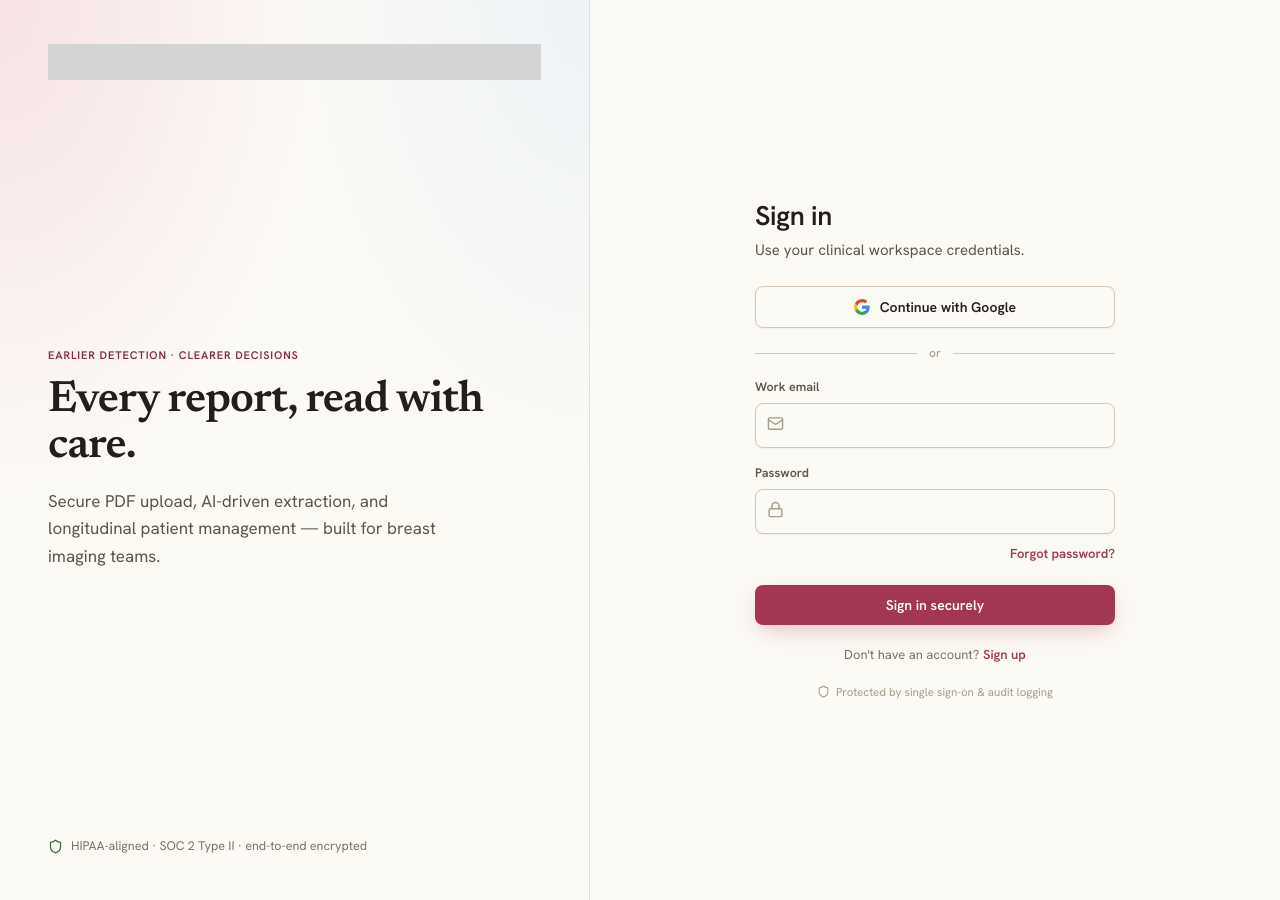
Scenario: Login page › shows error message on failed sign-in
The width and height of the screenshot is (1280, 900).
In the field labelled "Work email": (935, 425) left=755, top=403, right=1115, bottom=448, type "test@clinic.org"
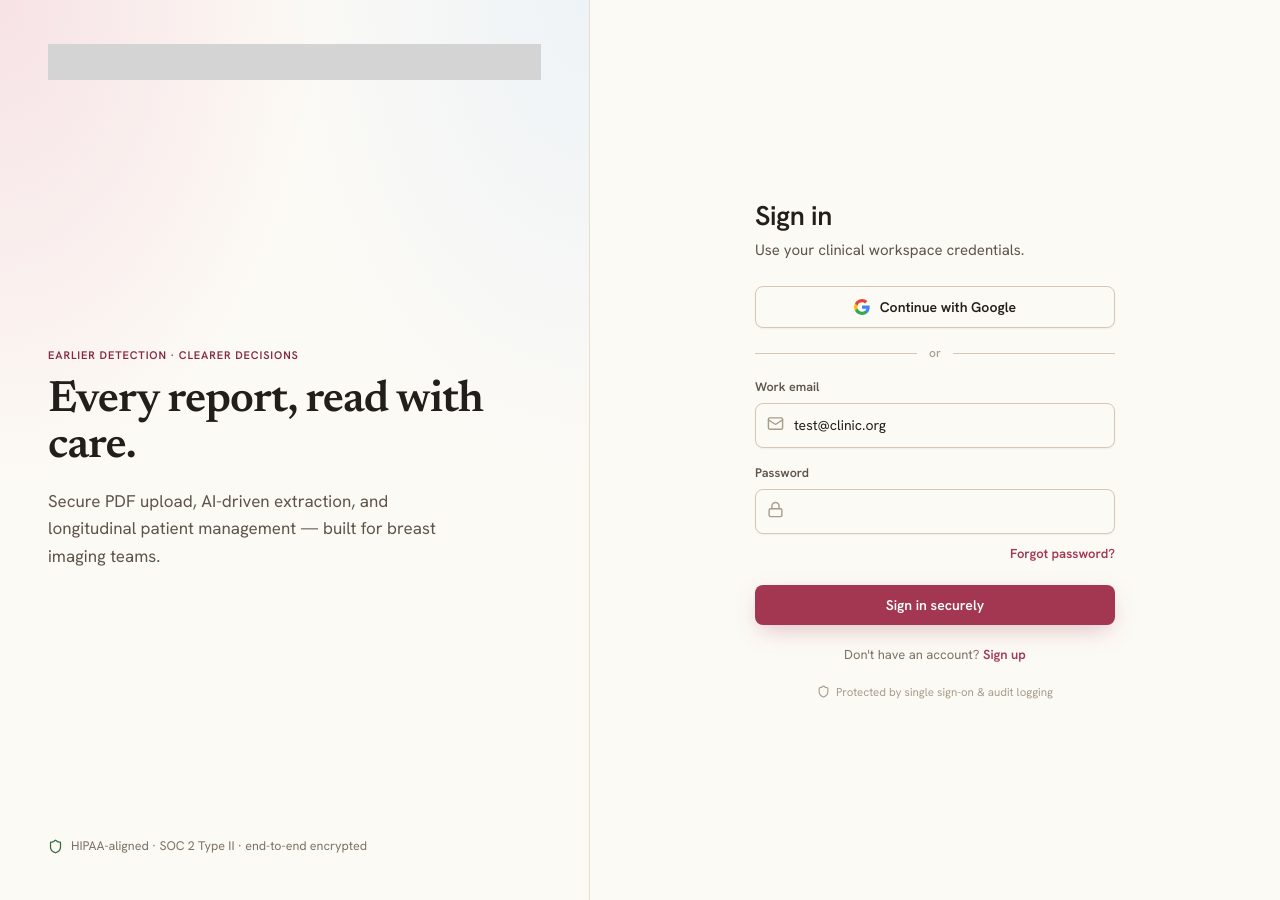
In the password field labelled "Password": (935, 511) left=755, top=488, right=1115, bottom=534, type "wrong"
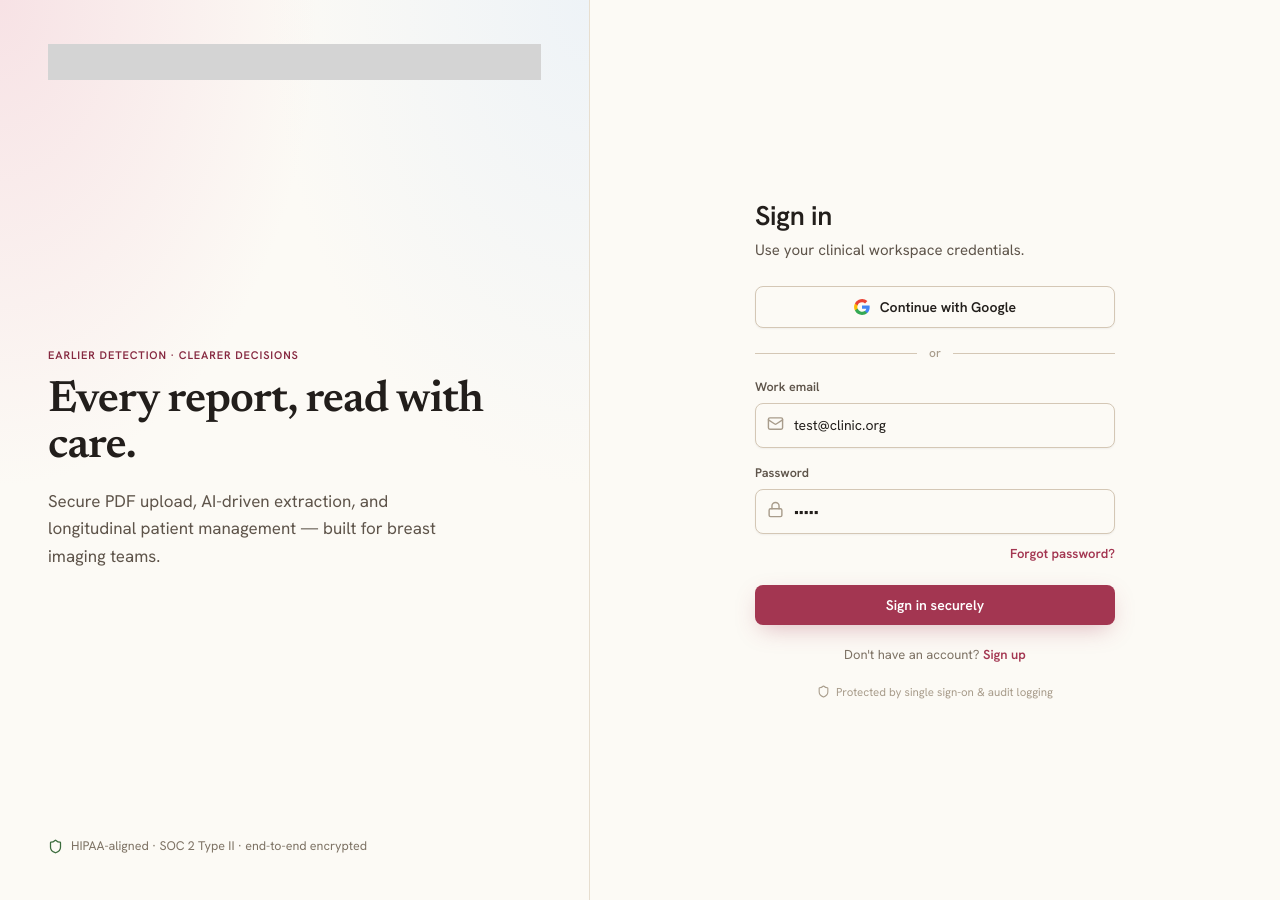
Click the button "Sign in securely": (935, 605) left=755, top=585, right=1115, bottom=625
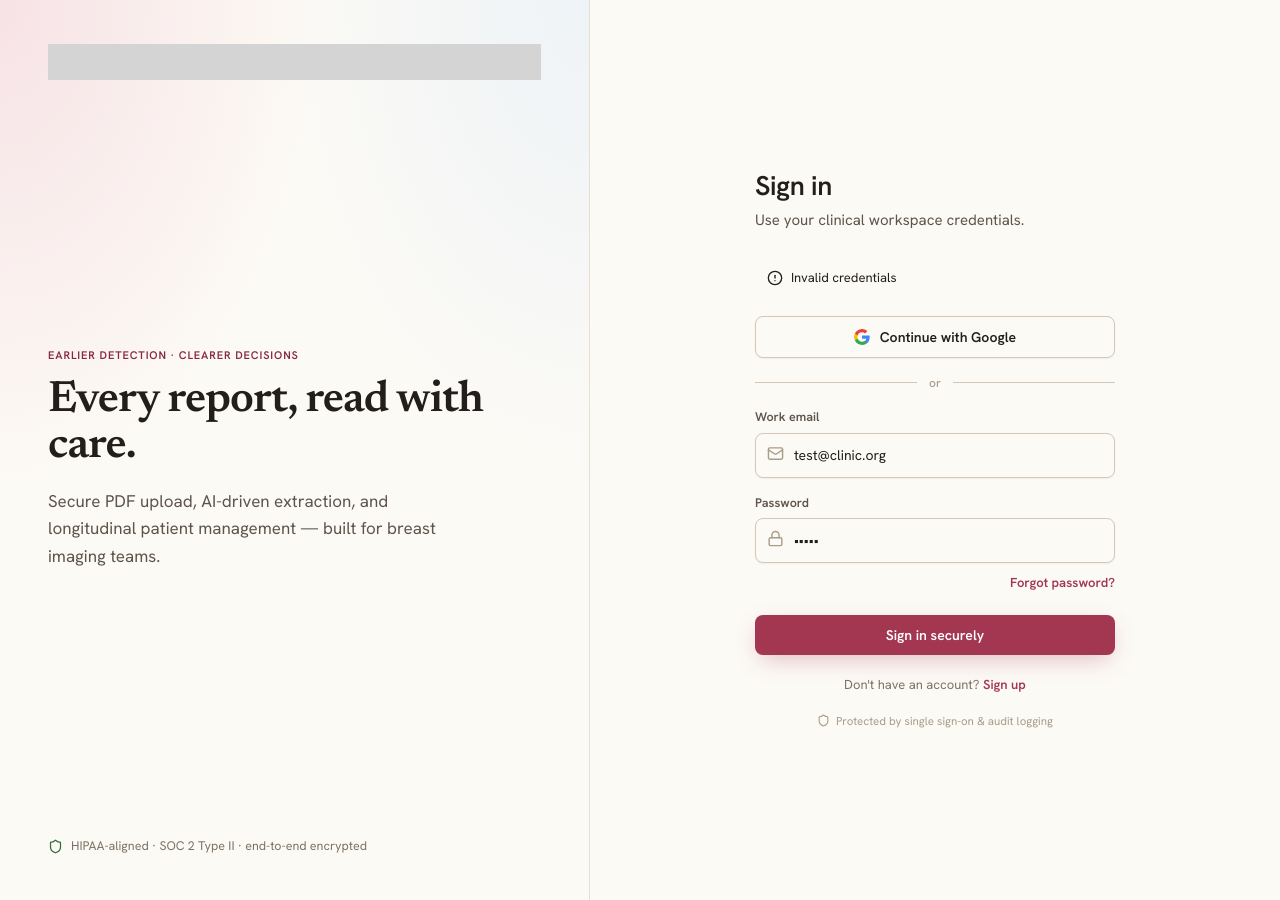
Expected: the text "Invalid credentials" is shown, left=767, top=269, right=897, bottom=286
